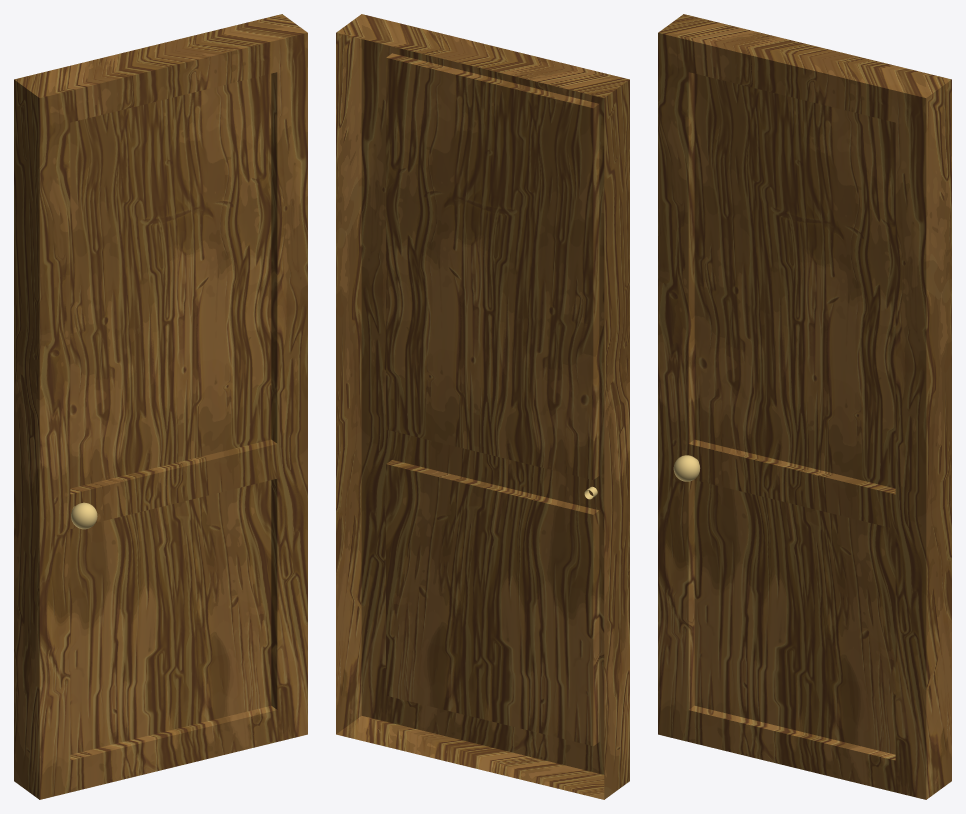
Rendered from Door.fbx.
The picture shows the model from 3 angles, left to right: view 1: azimuth 30°, elevation 25°; view 2: azimuth 150°, elevation 25°; view 3: azimuth 330°, elevation 25°; orthographic projection.
Parts seen in each view (by area): view 1: Door, Knob; view 2: Door; view 3: Door, Knob.
Part boxes in pixels (x1,y1,x2,y2): Door: [14, 14, 307, 799]; Knob: [71, 502, 97, 529]; Door: [336, 14, 629, 799]; Door: [658, 14, 951, 799]; Knob: [673, 455, 700, 481].
Size of the model in its own units: 200 by 500 by 51.85.
